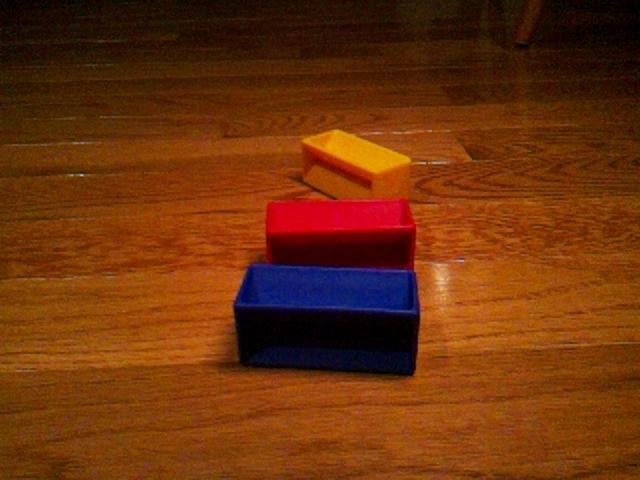blue: (233, 261, 421, 376)
red: (265, 197, 417, 270)
yellow: (300, 127, 412, 200)
